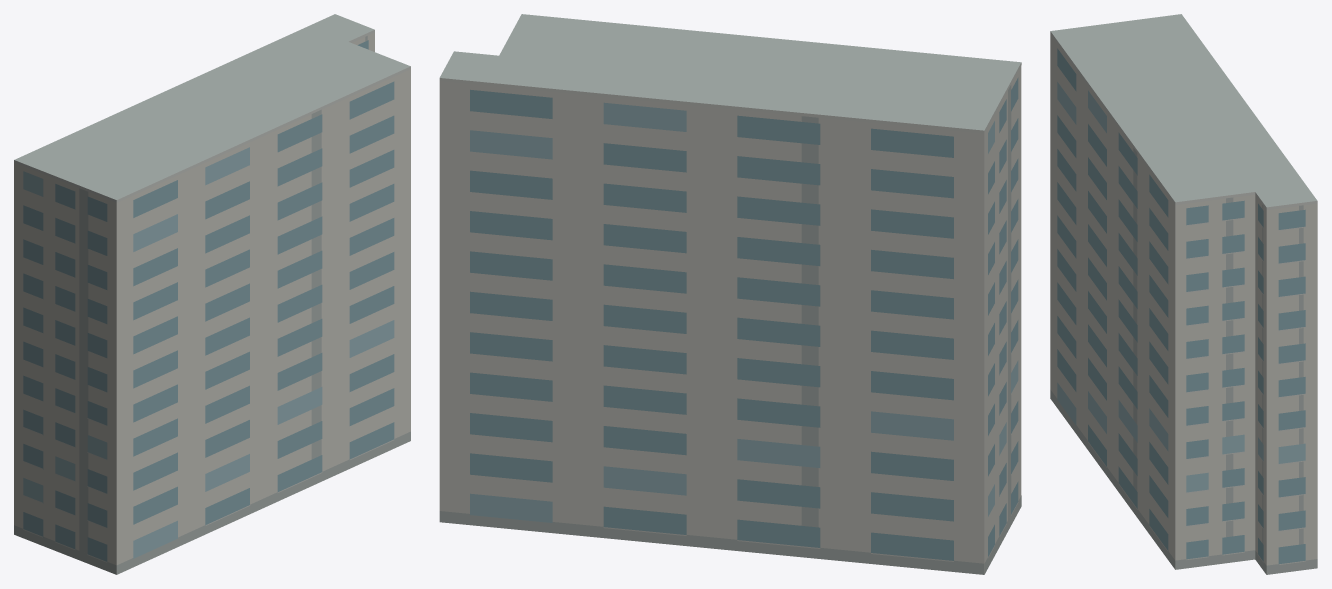
Rendered from residential-9fea8d4e-738e-467e-ba7d-f03451624145.glb.
3 views of the same model, side by side, from view 1: azimuth 30°, elevation 25°; view 2: azimuth 150°, elevation 25°; view 3: azimuth 270°, elevation 25° (orthographic). The views are drawn at different scales.
Visible parts, largest first — view 1: residential-9fea8d4e-738e-467e-ba7d-f03451624145.tmp; view 2: residential-9fea8d4e-738e-467e-ba7d-f03451624145.tmp; view 3: residential-9fea8d4e-738e-467e-ba7d-f03451624145.tmp.
Part boxes in pixels (bbox=[...]): residential-9fea8d4e-738e-467e-ba7d-f03451624145.tmp: bbox=[14, 14, 410, 574]; residential-9fea8d4e-738e-467e-ba7d-f03451624145.tmp: bbox=[439, 14, 1021, 574]; residential-9fea8d4e-738e-467e-ba7d-f03451624145.tmp: bbox=[1050, 14, 1317, 574].
Bounding box in the file's own units: 38.38 × 34 × 22.41.
